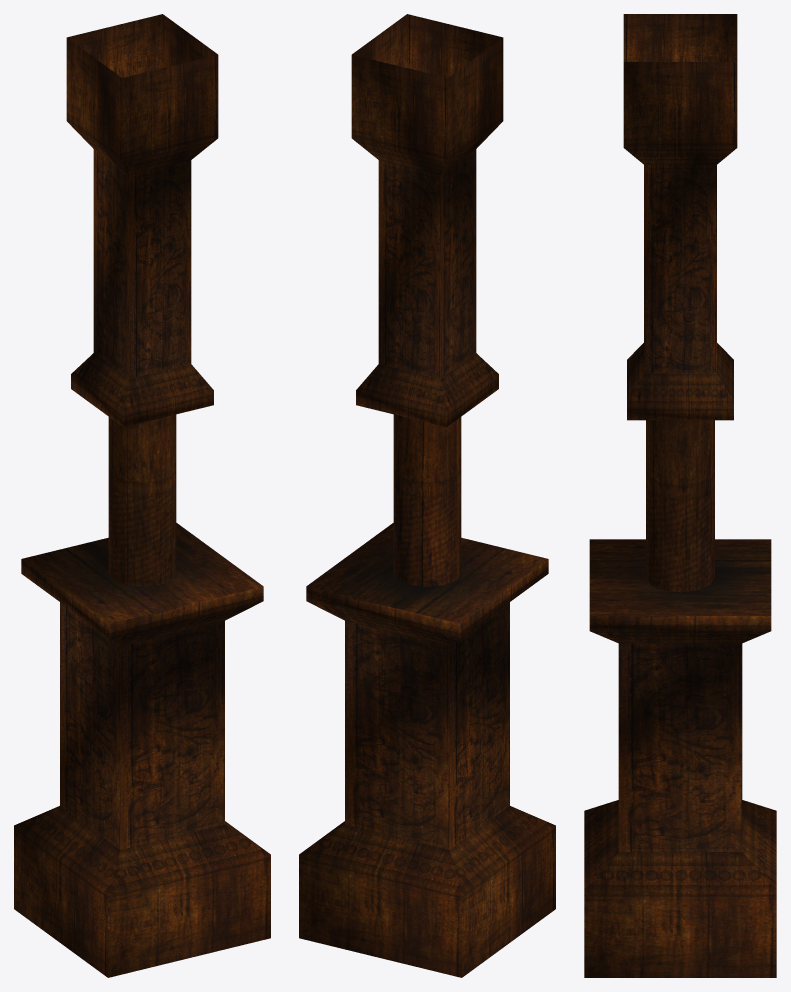
The model's file is balcony_post_small.DAE.
3 renders of one model, left to right at view 1: azimuth 30°, elevation 25°; view 2: azimuth 150°, elevation 25°; view 3: azimuth 270°, elevation 25°, orthographic. The views are drawn at different scales.
Visible parts, largest first — view 1: Object003; view 2: Object003; view 3: Object003.
Part boxes in pixels (x1,y1,x2,y2): Object003: [14, 14, 270, 977]; Object003: [299, 14, 555, 977]; Object003: [584, 14, 776, 977].
Size of the model in its own units: 0.7281 by 0.7281 by 3.75.
